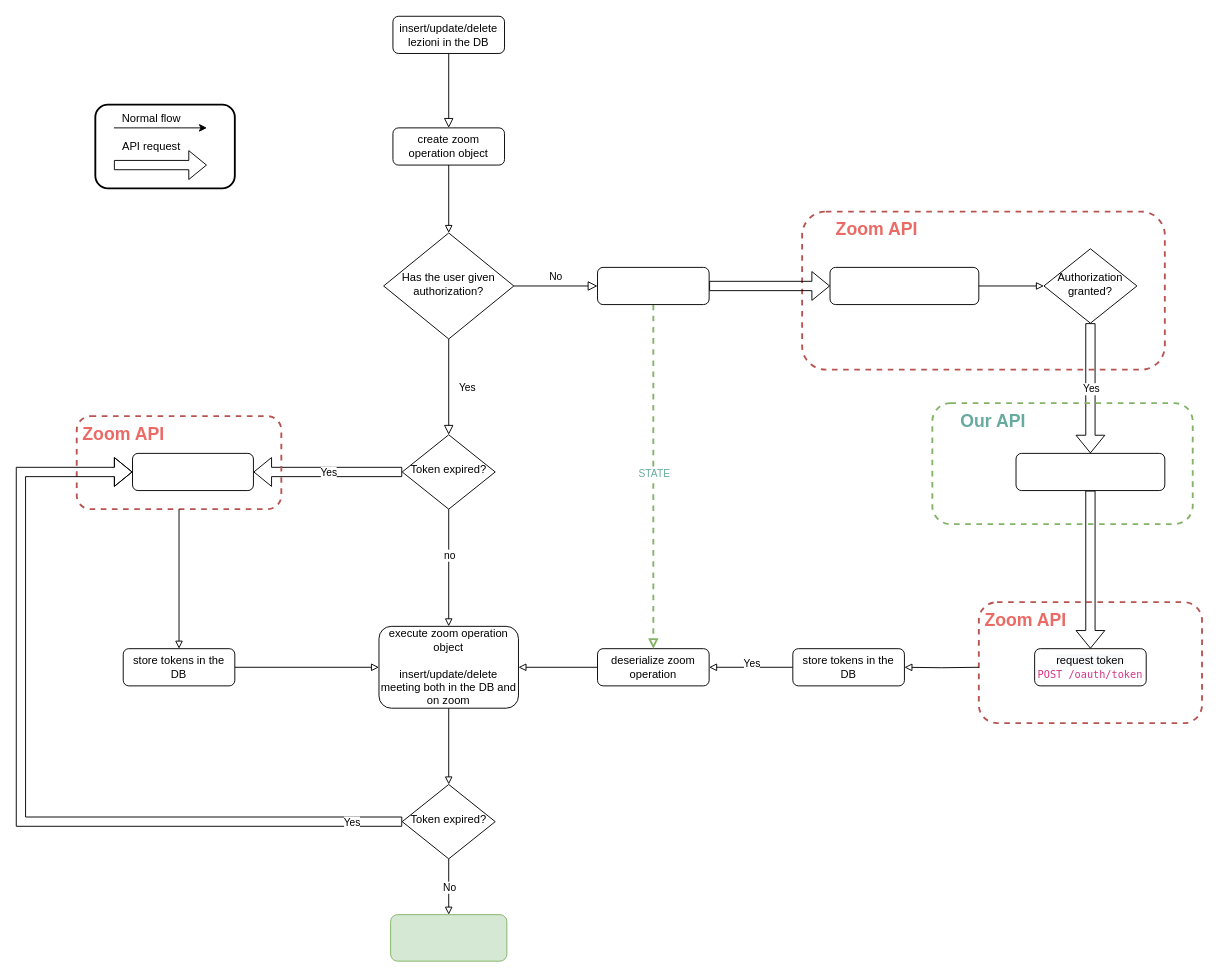
This 1219x977 diagram has some shape labels left out. Each missing label, with the centre of its shape:
"redirect to operation-related url" goes at point 448,937.
"request authorization GET /oauth/authorize" goes at point 904,285.
"send auth code GET /zoom_auth_code" goes at point 1090,471.
"send refresh token POST /oauth/token" goes at point 192,471.
"serialize zoom operation" goes at point 653,285.
